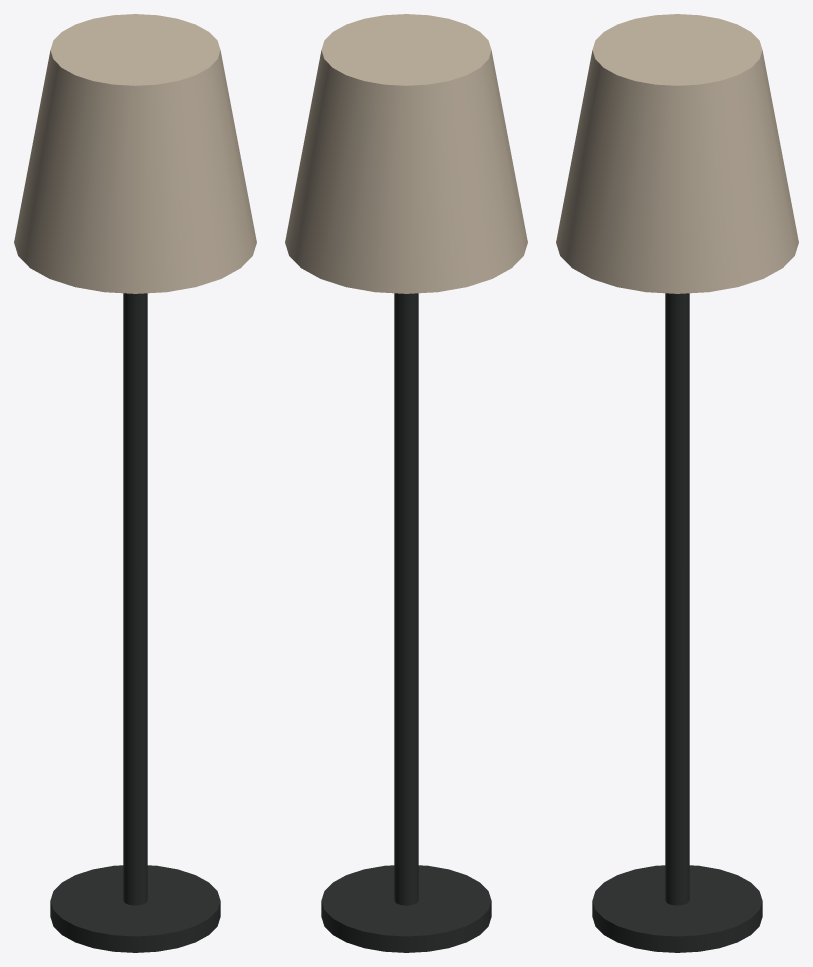
The model's file is floor-lamp.glb.
3 views of the same model, side by side, from view 1: azimuth 30°, elevation 25°; view 2: azimuth 150°, elevation 25°; view 3: azimuth 270°, elevation 25° (orthographic).
Parts seen in each view (by area): view 1: shade, frame_stem, frame_base; view 2: shade, frame_stem, frame_base; view 3: shade, frame_stem, frame_base.
Boxes of the visible parts, box(x1,y1,x2,y2) form: shade: box(14, 14, 256, 293); frame_stem: box(123, 293, 147, 905); frame_base: box(50, 865, 220, 952); shade: box(285, 14, 527, 293); frame_stem: box(394, 293, 418, 905); frame_base: box(321, 865, 491, 952); shade: box(556, 14, 798, 293); frame_stem: box(665, 293, 689, 905); frame_base: box(592, 865, 762, 952).
Bounding box in the file's own units: 0.4 × 1.57 × 0.4.
